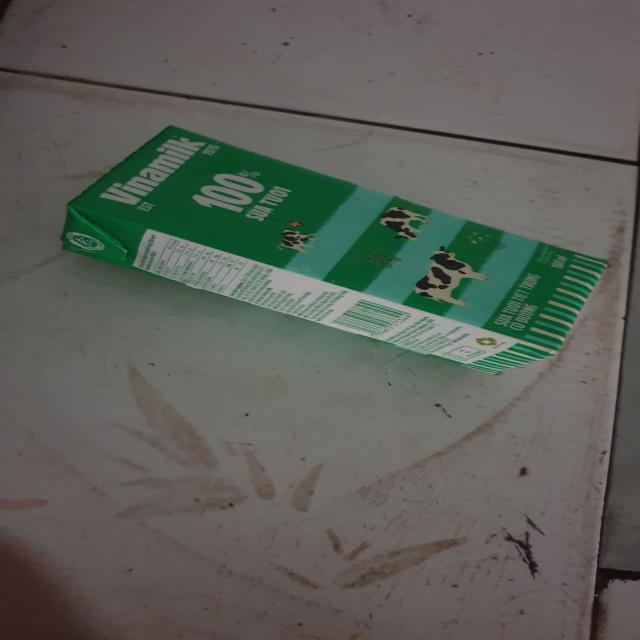Vina: (60, 123, 613, 382)
